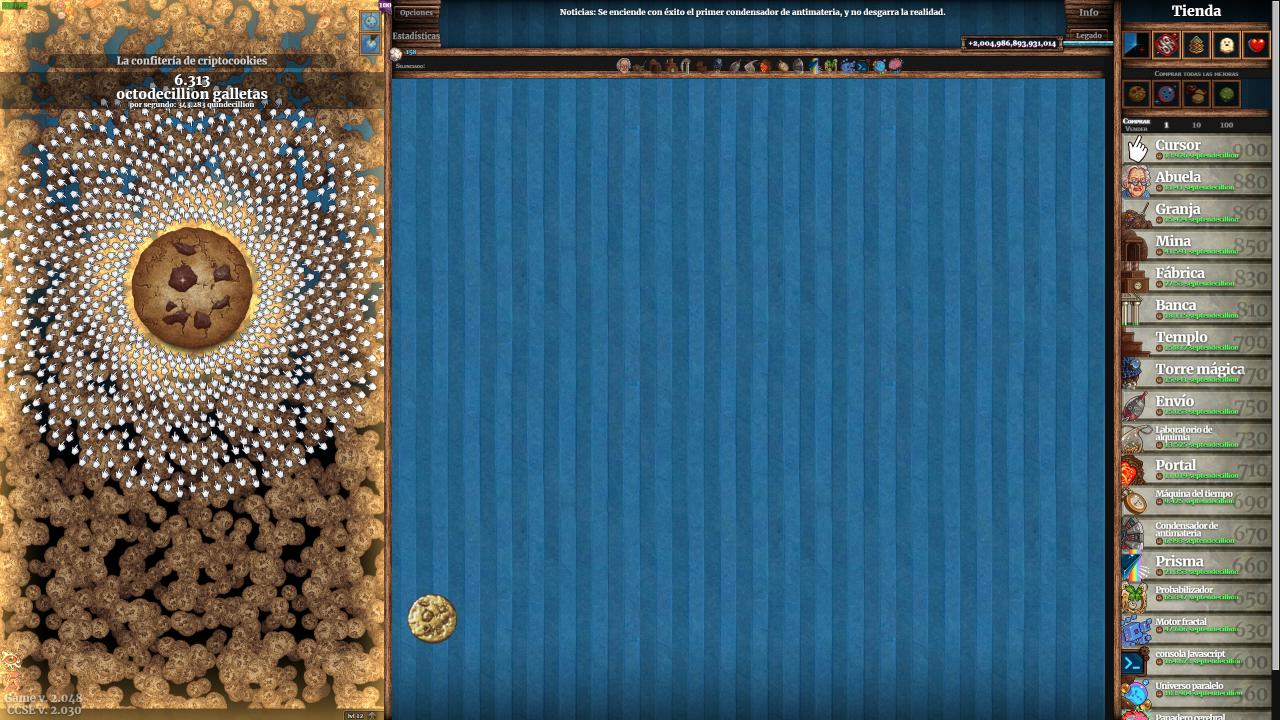GoldenCookie: (408, 593, 458, 644)
